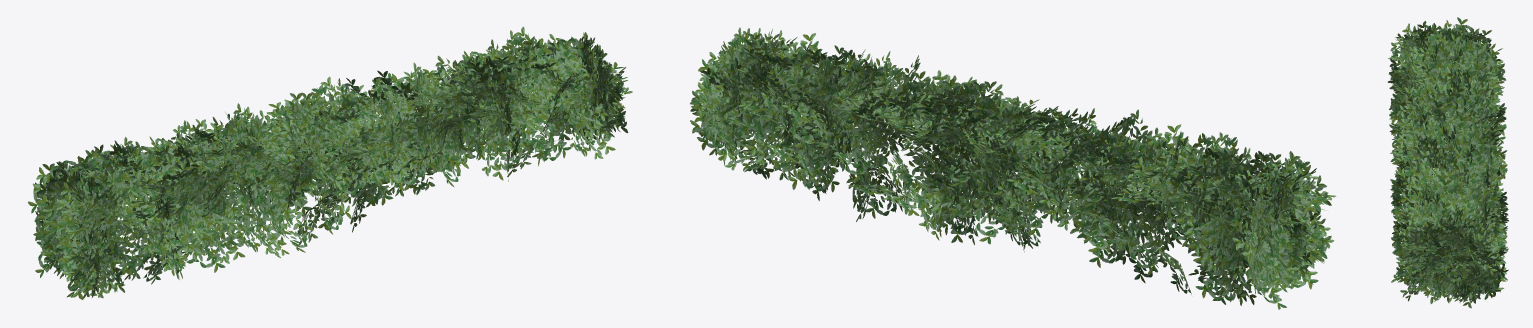
Rendered from Preset_Plant_SatsukiA.fbx.
3 renders of one model, left to right at view 1: azimuth 30°, elevation 25°; view 2: azimuth 150°, elevation 25°; view 3: azimuth 270°, elevation 25°, orthographic. The views are drawn at different scales.
Visible parts, largest first — view 1: Plant_SatsukiA; view 2: Plant_SatsukiA; view 3: Plant_SatsukiA.
Part boxes in pixels (bbox=[...]): Plant_SatsukiA: bbox=[28, 26, 632, 299]; Plant_SatsukiA: bbox=[690, 27, 1336, 309]; Plant_SatsukiA: bbox=[1387, 17, 1508, 308].
Bounding box in the file's own units: 596 × 154 × 149.
Materials: 1 (1 with a texture image).
